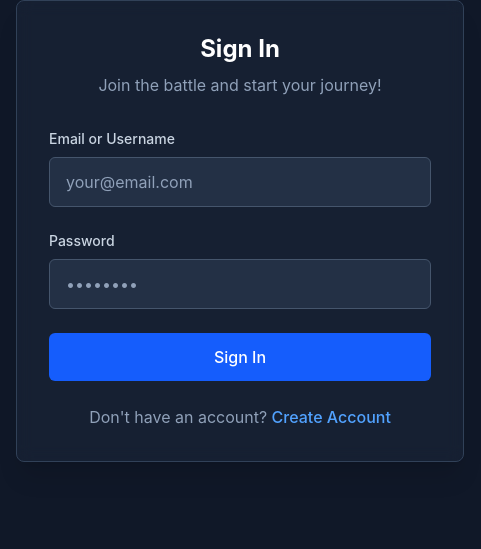
Test: LoginForm › should show error message on login failure
In the field labelled "Email or Username": (240, 182) [49,157,431,207], type "test@example.com"
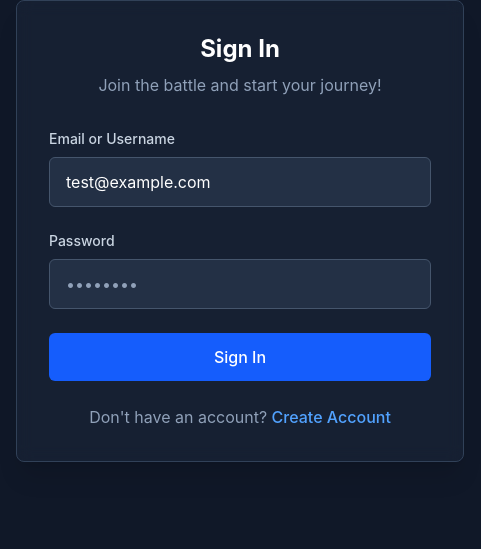
In the password field labelled "Password": (240, 284) [49,259,431,309], type "password123"
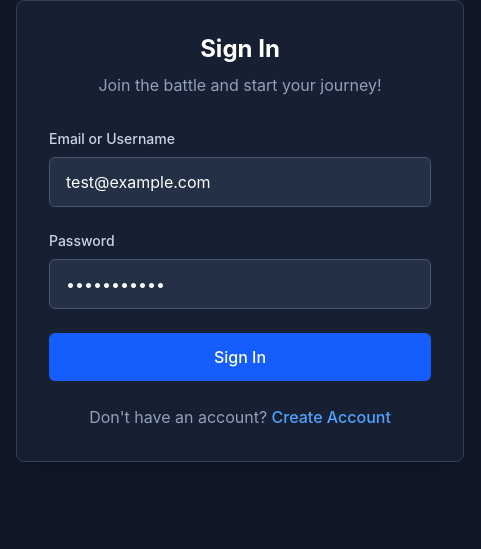
Click the button "Sign In": (240, 357) [49,333,431,381]
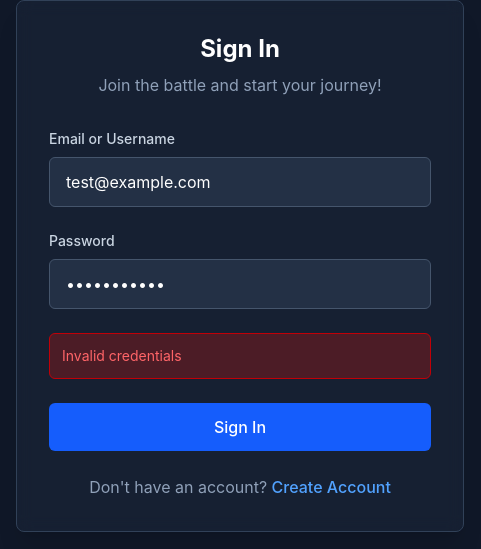
Expected: the text "Invalid credentials" is shown, [62,347,182,364]
